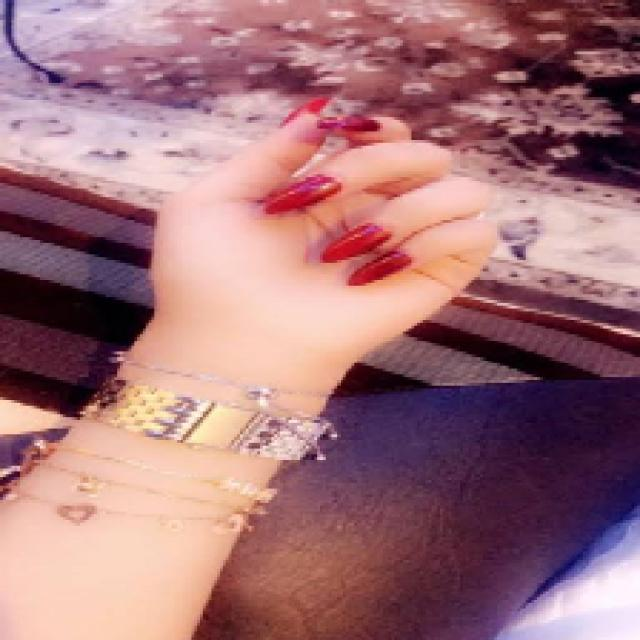Nail: (261, 174, 340, 214), (321, 222, 390, 262), (349, 250, 411, 284), (282, 98, 329, 124), (318, 116, 381, 131)
